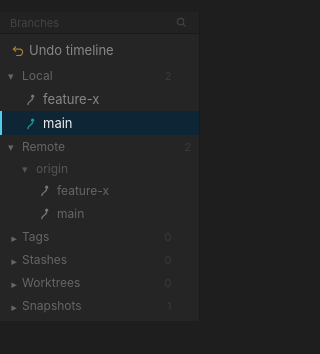
Test case: BranchPane — snapshots › renders a branchless (pre-0.2.7) snapshot without a branch suffix
This screenshot has width=320, height=354.
Click the text "Snapshots".
click(52, 306)  # box [22, 298, 82, 313]
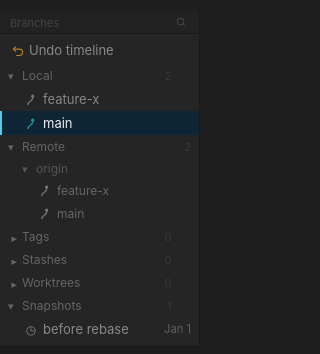
Expected: the text "before rebase" is shown, [43, 321, 129, 337]
